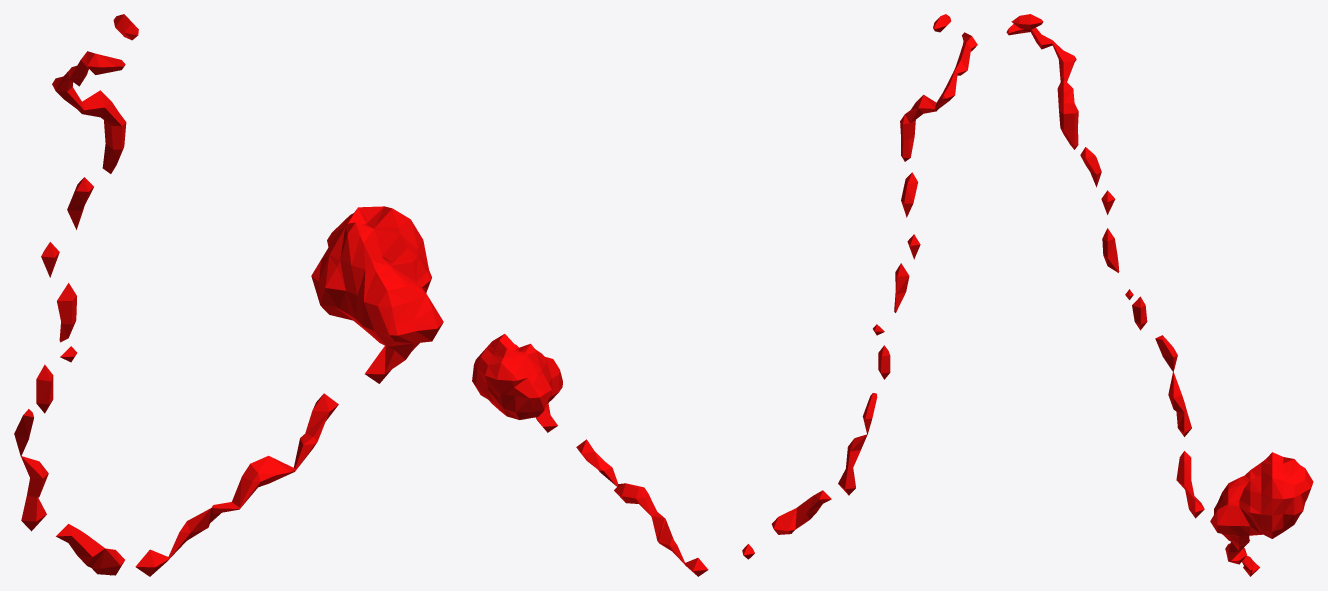
File: trpGD_coarse.dae
3 views of the same model, side by side, from view 1: azimuth 30°, elevation 25°; view 2: azimuth 150°, elevation 25°; view 3: azimuth 270°, elevation 25° (orthographic). The views are drawn at different scales.
Parts seen in each view (by area): view 1: trpGD; view 2: trpGD; view 3: trpGD.
Boxes of the visible parts, left/top/right/bottom form: trpGD: left=14, top=14, right=443, bottom=576; trpGD: left=472, top=14, right=977, bottom=576; trpGD: left=1006, top=14, right=1313, bottom=576.
Size of the model in its own units: 249 by 330 by 183.
